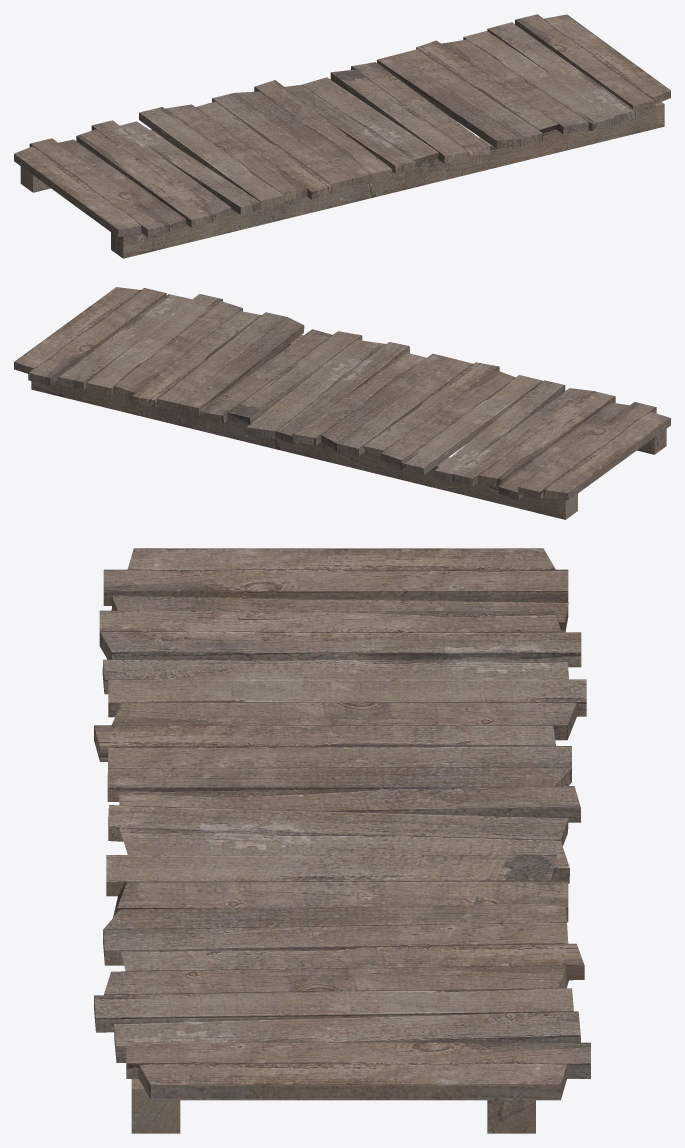
File: bg_anh_delphiinn_table02_sm_old.FBX
The picture shows the model from 3 angles, top to bottom: view 1: azimuth 30°, elevation 25°; view 2: azimuth 150°, elevation 25°; view 3: azimuth 270°, elevation 25°; orthographic projection. The views are drawn at different scales.
Visible parts, largest first — view 1: bg_anh_delphiinn_table02_sm_old; view 2: bg_anh_delphiinn_table02_sm_old; view 3: bg_anh_delphiinn_table02_sm_old.
Part boxes in pixels (left/top/right/bottom): bg_anh_delphiinn_table02_sm_old: left=14, top=14, right=670, bottom=258; bg_anh_delphiinn_table02_sm_old: left=14, top=287, right=670, bottom=519; bg_anh_delphiinn_table02_sm_old: left=94, top=548, right=590, bottom=1133.
Bounding box in the file's own units: 225 × 12.39 × 88.14.
